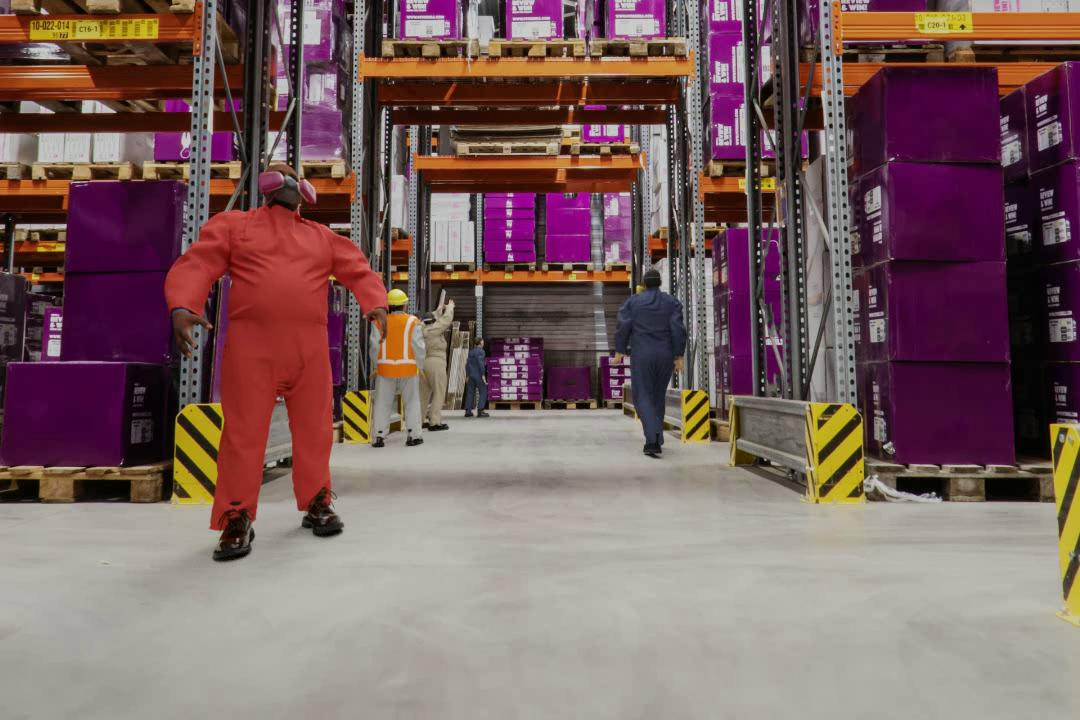Helmet: (388, 286, 408, 306)
Jacket: (375, 312, 416, 376)
Shoes: (209, 511, 255, 562), (301, 495, 346, 538), (643, 443, 662, 454), (407, 435, 424, 446), (371, 435, 385, 448), (428, 423, 450, 431), (477, 409, 490, 417), (464, 411, 474, 417)
